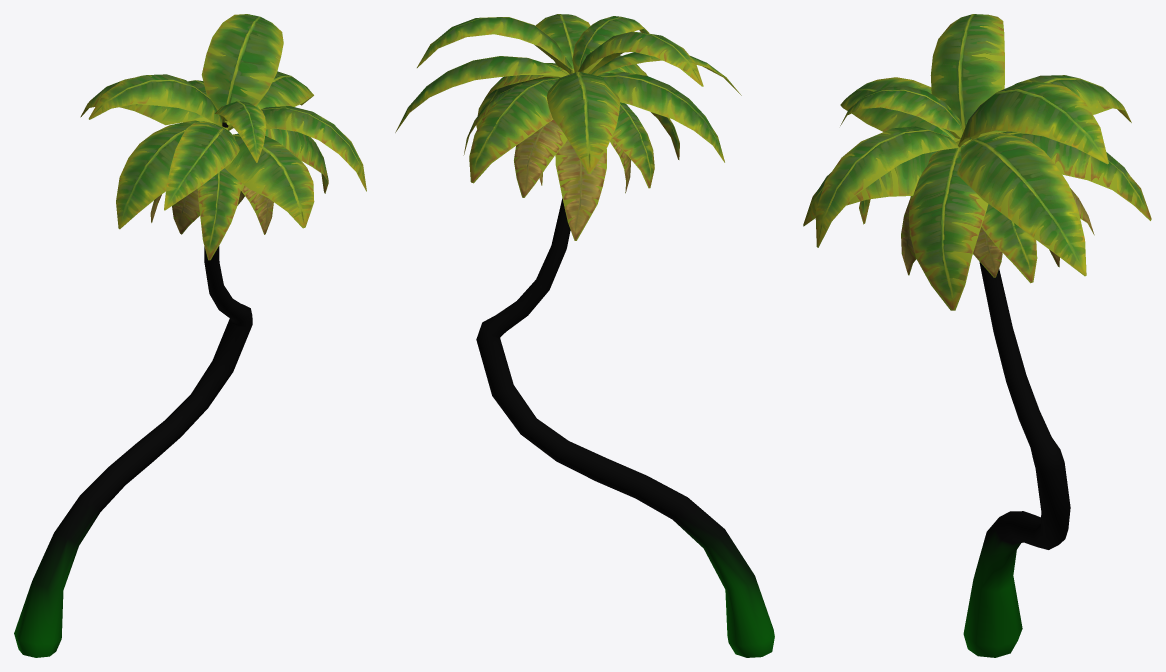
The model's file is P_PalmTree14.obj.
3 views of the same model, side by side, from view 1: azimuth 30°, elevation 25°; view 2: azimuth 150°, elevation 25°; view 3: azimuth 270°, elevation 25° (orthographic). The views are drawn at different scales.
Bounding box in the file's own units: 11.09 × 18.43 × 8.35.
